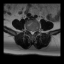CCS_normal: (31, 29, 33, 36)
LFS_normal: (35, 28, 37, 33)
LLS_normal: (33, 29, 35, 35)
RFS_stenosis: (27, 27, 29, 33)
RLS_normal: (29, 29, 31, 35)
